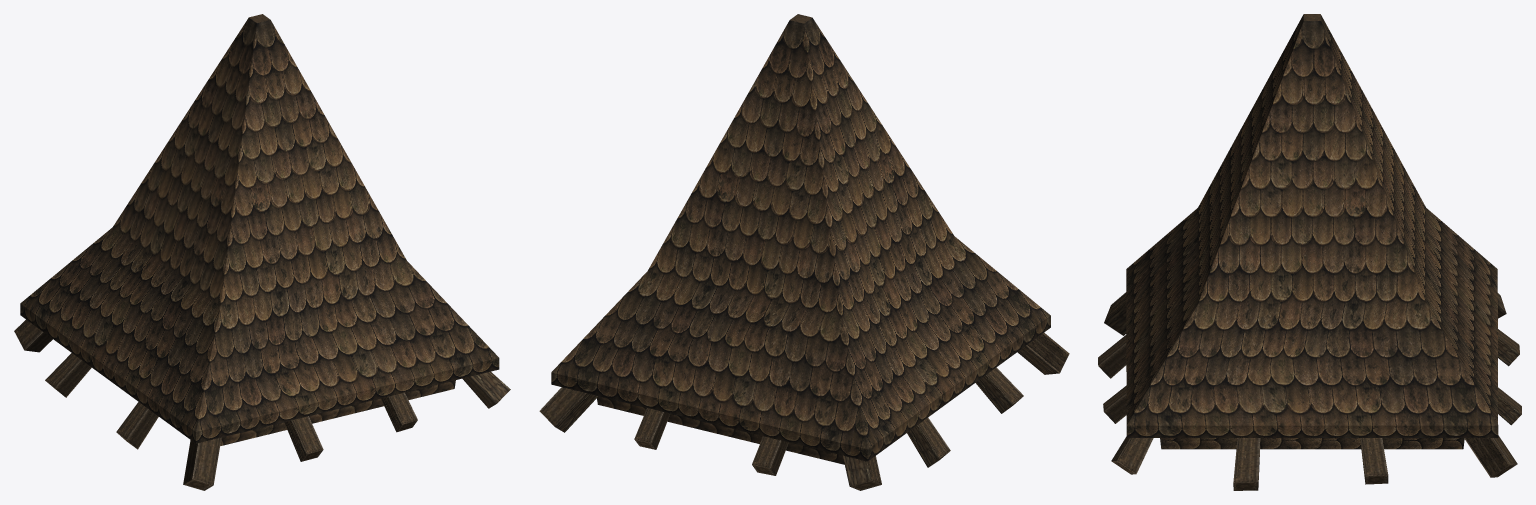
File: Roof_6X6_03b.fbx
3 renders of one model, left to right at view 1: azimuth 30°, elevation 25°; view 2: azimuth 150°, elevation 25°; view 3: azimuth 270°, elevation 25°, orthographic. The views are drawn at different scales.
Parts seen in each view (by area): view 1: Roof_6X6_03b; view 2: Roof_6X6_03b; view 3: Roof_6X6_03b.
Part boxes in pixels (x1,y1,x2,y2): Roof_6X6_03b: [14, 14, 510, 490]; Roof_6X6_03b: [539, 14, 1069, 490]; Roof_6X6_03b: [1098, 14, 1521, 490].
Size of the model in its own units: 9.29 by 9.34 by 9.13.
